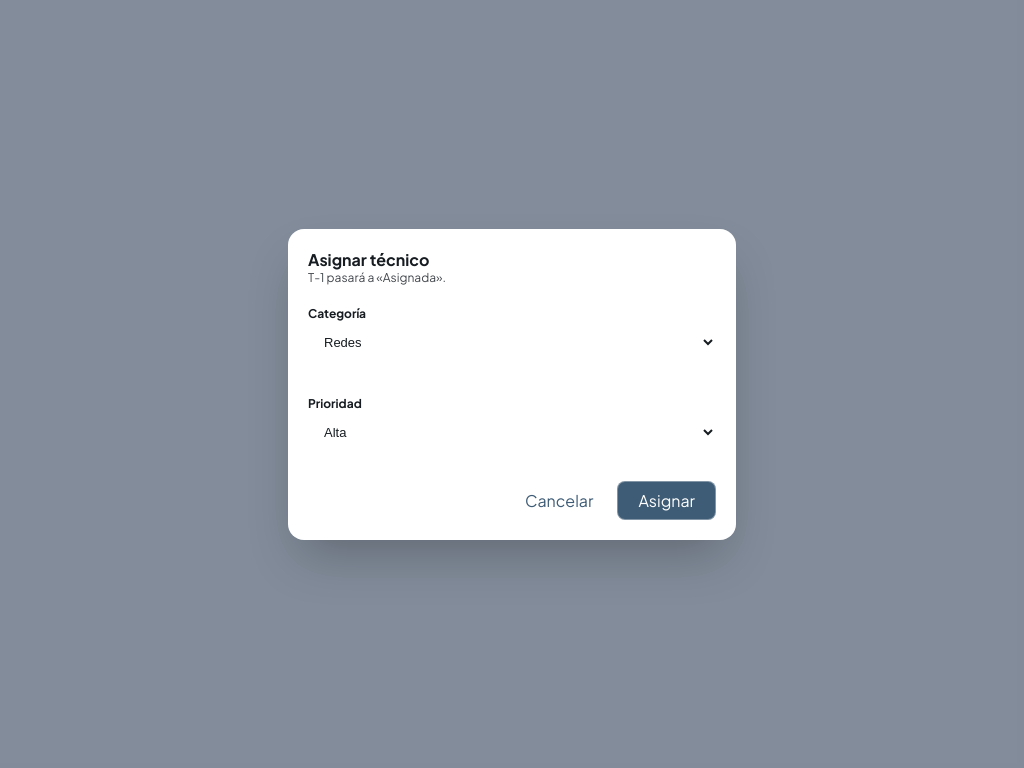
Scenario: TransitionDialogComponent › shows category and priority together for a classification, starting from the ticket's own values
This screenshot has width=1024, height=768.
Check: the submit button is enabled, box 617,480 -> 716,520
Select "Selecciona…" in the dropdown labelled "Categoría" at (512, 342), box 308,326 -> 716,358
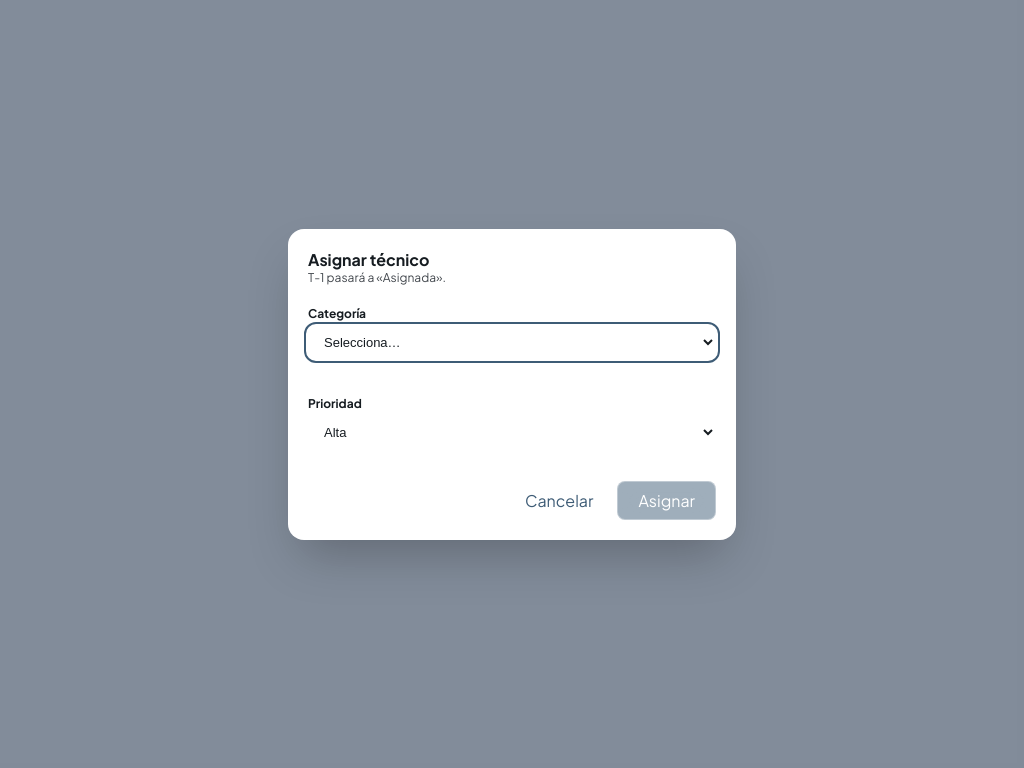
Check: the submit button is disabled, box 617,480 -> 716,520
